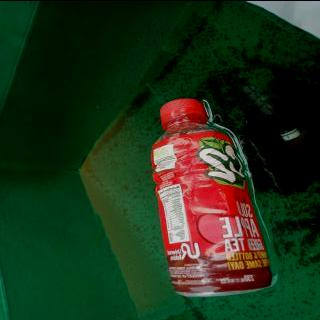bottle: (150, 94, 277, 298)
